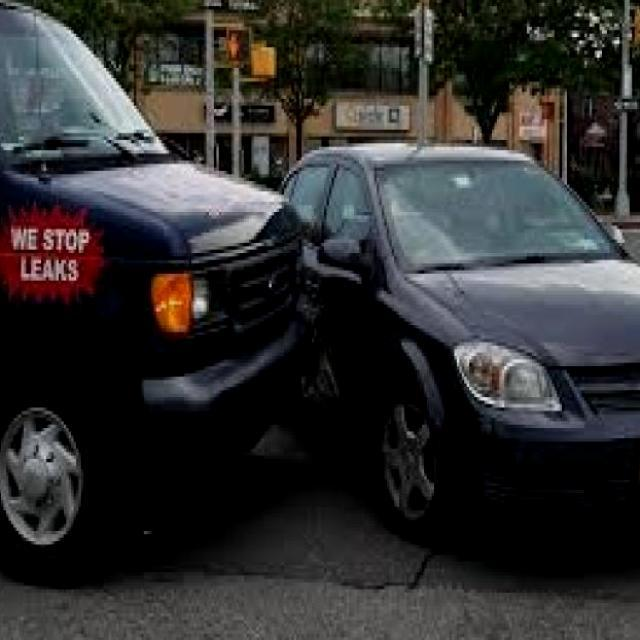accident: (98, 89, 551, 561)
